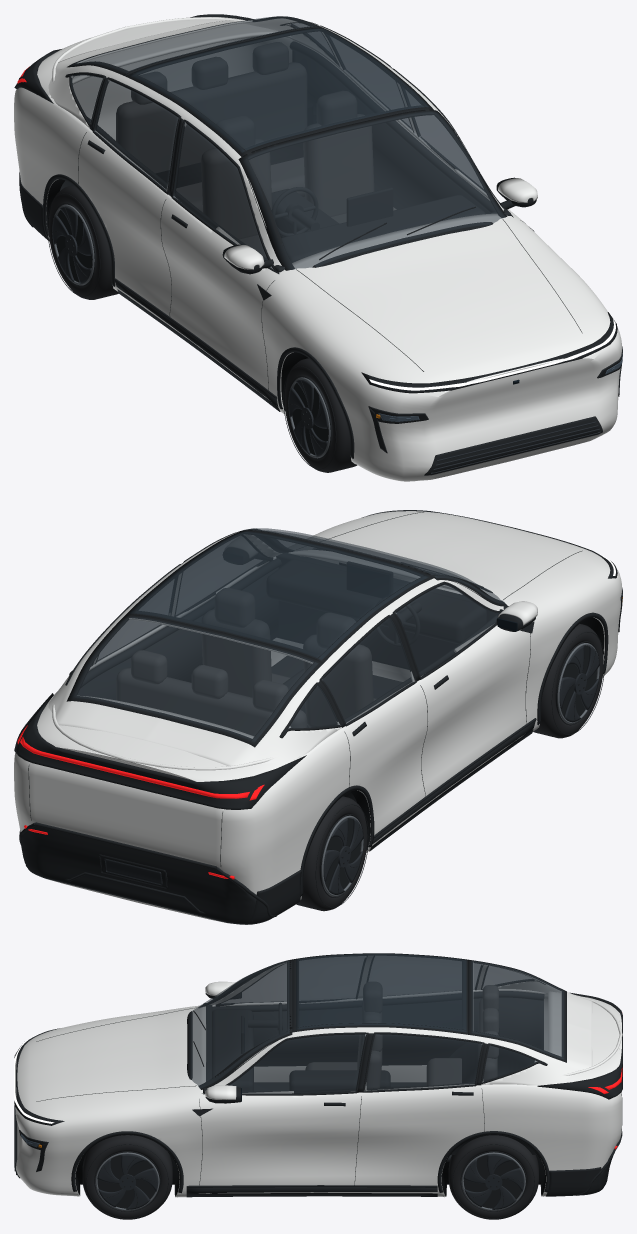
File: tesla-model-y.glb
The picture shows the model from 3 angles, top to bottom: view 1: azimuth 30°, elevation 25°; view 2: azimuth 150°, elevation 25°; view 3: azimuth 270°, elevation 25°; orthographic projection. The views are drawn at different scales.
Visible parts, largest first — view 1: Tesla / Tesla • pearl white multilayer paint, Tesla / Tesla • satin polymer trim, Tesla / Tesla • smoked translucent cabin glazing / Sloped la, Tesla / Tesla • neutral seat upholstery, Tesla / Tesla • tinted panoramic roof glazing / Shallow crow, Tesla / Tesla • neutral dark cabin trim, Tesla / Tesla • smoked translucent cabin glazing / Left rear (×2), Tesla / Tesla • smoked translucent cabin glazing / Left fron, Tesla / Tesla • tire rubber, Tesla / Tesla • graphite aero wheel, Tesla / Tesla • smoked translucent cabin glazing / Tapered r, Tesla / Tesla • smoked translucent cabin glazing / Right rea (+4 smaller); view 2: Tesla / Tesla • pearl white multilayer paint, Tesla / Tesla • satin polymer trim, Tesla / Tesla • tinted panoramic roof glazing / Shallow crow, Tesla / Tesla • neutral dark cabin trim, Tesla / Tesla • smoked translucent cabin glazing / Tapered r, Tesla / Tesla • neutral seat upholstery, Tesla / Tesla • smoked translucent cabin glazing / Left rear (×2), Tesla / Tesla • tire rubber, Tesla / Tesla • smoked translucent cabin glazing / Left fron, Tesla / Tesla • graphite aero wheel, Tesla / Tesla • smoked translucent cabin glazing / Right fro, Tesla / Tesla • smoked translucent cabin glazing / Sloped la (+6 smaller); view 3: Tesla / Tesla • pearl white multilayer paint, Tesla / Tesla • satin polymer trim, Tesla / Tesla • neutral dark cabin trim, Tesla / Tesla • tinted panoramic roof glazing / Shallow crow, Tesla / Tesla • smoked translucent cabin glazing / Sloped la, Tesla / Tesla • smoked translucent cabin glazing / Tapered r, Tesla / Tesla • tire rubber, Tesla / Tesla • smoked translucent cabin glazing / Right rea (×2), Tesla / Tesla • smoked translucent cabin glazing / Right fro, Tesla / Tesla • neutral seat upholstery, Tesla / Tesla • smoked translucent cabin glazing / Left fron, Tesla / Tesla • smoked translucent cabin glazing / Left rear (×2) (+4 smaller).
Part boxes in pixels (x1=…): Tesla / Tesla • pearl white multilayer paint: x1=14, y1=17, x2=621, y2=481; Tesla / Tesla • satin polymer trim: x1=14, y1=14, x2=622, y2=475; Tesla / Tesla • smoked translucent cabin glazing / Sloped la: x1=242, y1=111, x2=505, y2=270; Tesla / Tesla • neutral seat upholstery: x1=116, y1=42, x2=374, y2=257; Tesla / Tesla • tinted panoramic roof glazing / Shallow crow: x1=129, y1=28, x2=428, y2=152; Tesla / Tesla • neutral dark cabin trim: x1=60, y1=41, x2=511, y2=272; Tesla / Tesla • smoked translucent cabin glazing / Left rear (×2): x1=70, y1=74, x2=178, y2=191; Tesla / Tesla • smoked translucent cabin glazing / Left fron: x1=173, y1=122, x2=273, y2=269; Tesla / Tesla • tire rubber: x1=48, y1=185, x2=357, y2=472; Tesla / Tesla • graphite aero wheel: x1=52, y1=206, x2=600, y2=473; Tesla / Tesla • smoked translucent cabin glazing / Tapered r: x1=71, y1=16, x2=318, y2=73; Tesla / Tesla • smoked translucent cabin glazing / Right rea: x1=327, y1=35, x2=411, y2=129; Tesla / Tesla • pearl white multilayer paint: x1=14, y1=511, x2=621, y2=924; Tesla / Tesla • satin polymer trim: x1=14, y1=510, x2=622, y2=924; Tesla / Tesla • tinted panoramic roof glazing / Shallow crow: x1=129, y1=531, x2=428, y2=660; Tesla / Tesla • neutral dark cabin trim: x1=77, y1=553, x2=508, y2=802; Tesla / Tesla • smoked translucent cabin glazing / Tapered r: x1=71, y1=616, x2=318, y2=742; Tesla / Tesla • neutral seat upholstery: x1=116, y1=588, x2=376, y2=736; Tesla / Tesla • smoked translucent cabin glazing / Left rear (×2): x1=288, y1=617, x2=415, y2=728; Tesla / Tesla • tire rubber: x1=296, y1=623, x2=603, y2=911; Tesla / Tesla • smoked translucent cabin glazing / Left fron: x1=395, y1=584, x2=499, y2=677; Tesla / Tesla • graphite aero wheel: x1=104, y1=645, x2=599, y2=894; Tesla / Tesla • smoked translucent cabin glazing / Right fro: x1=176, y1=536, x2=267, y2=615; Tesla / Tesla • smoked translucent cabin glazing / Sloped la: x1=243, y1=528, x2=505, y2=603; Tesla / Tesla • pearl white multilayer paint: x1=15, y1=956, x2=622, y2=1197; Tesla / Tesla • satin polymer trim: x1=14, y1=953, x2=622, y2=1218; Tesla / Tesla • neutral dark cabin trim: x1=203, y1=991, x2=544, y2=1161; Tesla / Tesla • tinted panoramic roof glazing / Shallow crow: x1=296, y1=953, x2=466, y2=1032; Tesla / Tesla • smoked translucent cabin glazing / Sloped la: x1=189, y1=960, x2=289, y2=1088; Tesla / Tesla • smoked translucent cabin glazing / Tapered r: x1=471, y1=960, x2=564, y2=1059; Tesla / Tesla • tire rubber: x1=82, y1=1135, x2=538, y2=1219; Tesla / Tesla • smoked translucent cabin glazing / Right rea (×2): x1=364, y1=1034, x2=537, y2=1091; Tesla / Tesla • smoked translucent cabin glazing / Right fro: x1=229, y1=1034, x2=366, y2=1093; Tesla / Tesla • neutral seat upholstery: x1=305, y1=982, x2=498, y2=1088; Tesla / Tesla • smoked translucent cabin glazing / Left fron: x1=221, y1=956, x2=364, y2=1004; Tesla / Tesla • smoked translucent cabin glazing / Left rear (×2): x1=369, y1=956, x2=533, y2=995.
Bounding box in the file's own units: 2.13 × 1.62 × 4.81.
